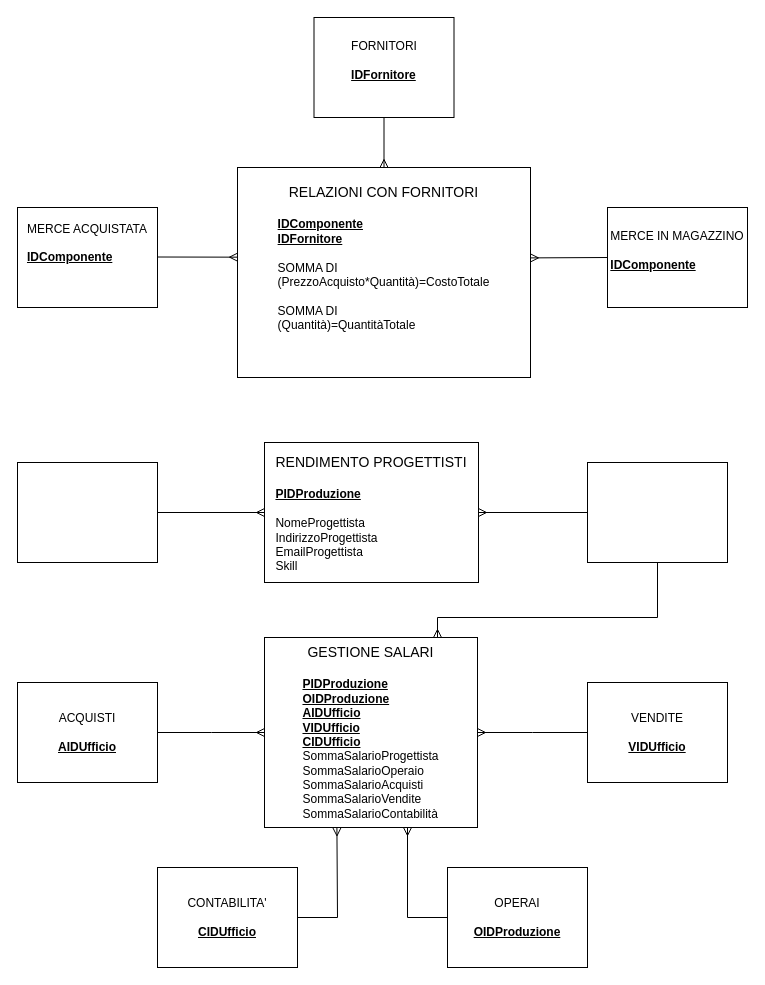
The diagram is 765 pixels wide and 985 high, and some of its shapes have lost their labels. The shapes that lost their labels are listed below. From the top down, each one's centre as x and y in pixels, then its label:
At (x=87, y=512): "PROGETTISTI SKILL PIDProduzione".
At (x=657, y=512): "PROGETTISTI PIDProduzione".
